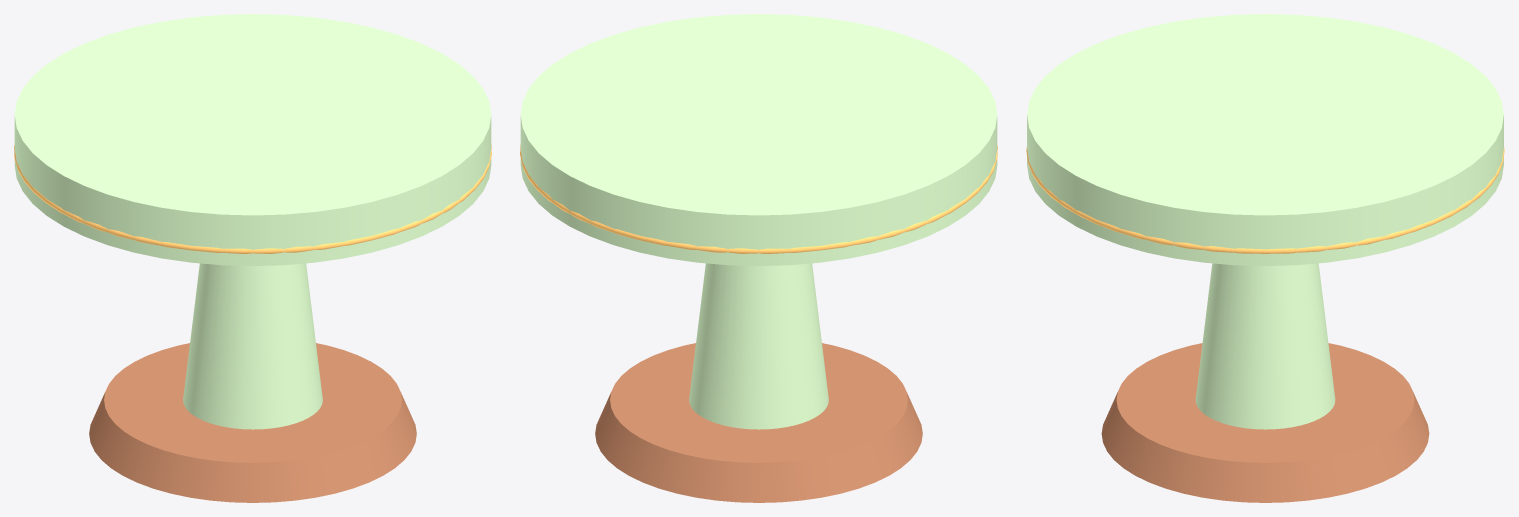
The model's file is matcha_table.glb.
3 renders of one model, left to right at view 1: azimuth 30°, elevation 25°; view 2: azimuth 150°, elevation 25°; view 3: azimuth 270°, elevation 25°, orthographic.
Parts seen in each view (by area): view 1: matcha_table; view 2: matcha_table; view 3: matcha_table.
Part boxes in pixels (x1,y1,x2,y2): matcha_table: [14, 14, 491, 502]; matcha_table: [520, 14, 997, 502]; matcha_table: [1026, 14, 1504, 502].
Size of the model in its own units: 0.642 by 0.4725 by 0.642.
